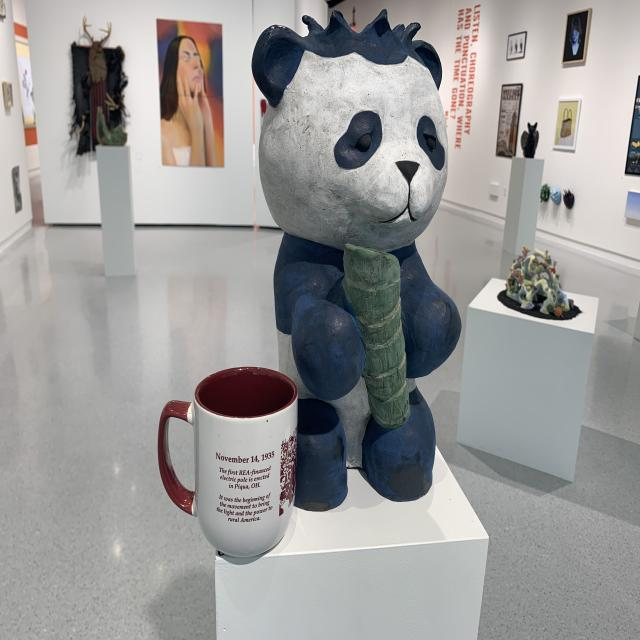Cup: (150, 358, 306, 561)
